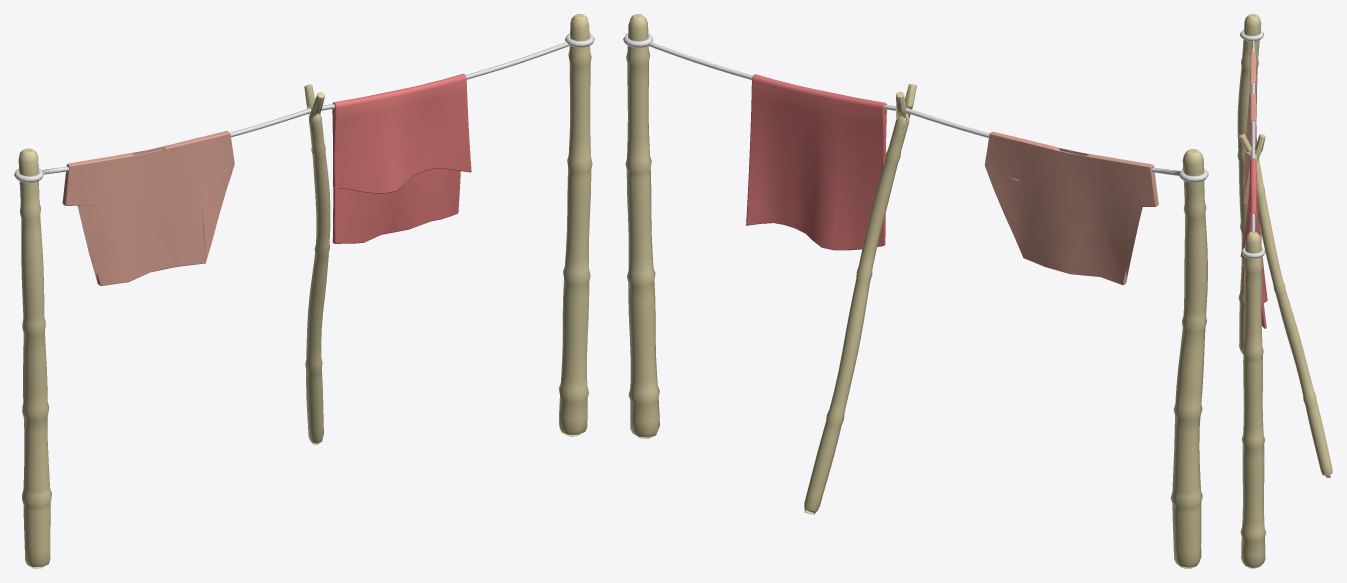
File: prop_laundry_line_2.glb
The picture shows the model from 3 angles, left to right: view 1: azimuth 30°, elevation 25°; view 2: azimuth 150°, elevation 25°; view 3: azimuth 270°, elevation 25°; orthographic projection. The views are drawn at different scales.
Visible parts, largest first — view 1: laundry_line_2_cloth, laundry_line_2_bamboo, laundry_line_2_rope; view 2: laundry_line_2_cloth, laundry_line_2_bamboo, laundry_line_2_rope; view 3: laundry_line_2_bamboo, laundry_line_2_cloth, laundry_line_2_rope.
Boxes of the visible parts, x1,y1,x2,y2 form: laundry_line_2_cloth: (62,74,471,285); laundry_line_2_bamboo: (18,14,592,568); laundry_line_2_rope: (14,33,594,182); laundry_line_2_cloth: (746,74,1158,285); laundry_line_2_bamboo: (625,14,1207,568); laundry_line_2_rope: (623,33,1208,182); laundry_line_2_bamboo: (1237,14,1332,568); laundry_line_2_cloth: (1240,51,1267,328); laundry_line_2_rope: (1240,29,1265,258).
Bounding box in the file's own units: 3.6 × 2.48 × 0.636.
